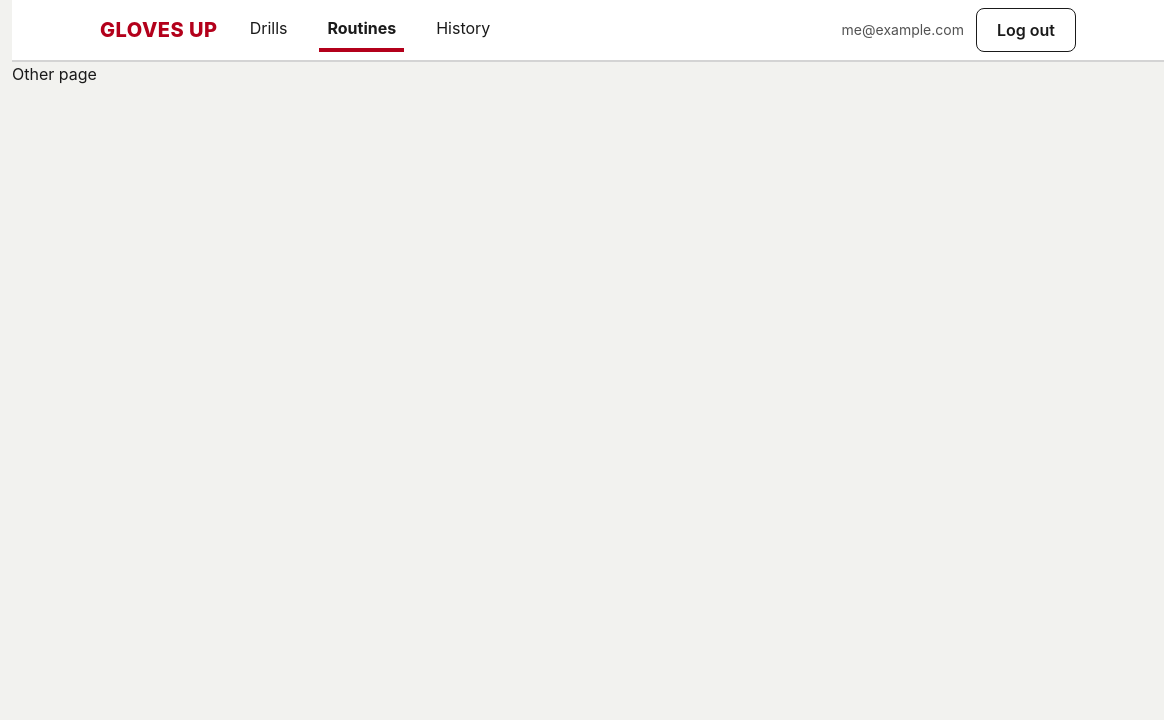
Scenario: Navbar › logs out and goes to the login page
The image size is (1164, 720).
Click the button "Log out".
click(1026, 30)  # box [976,8,1076,52]
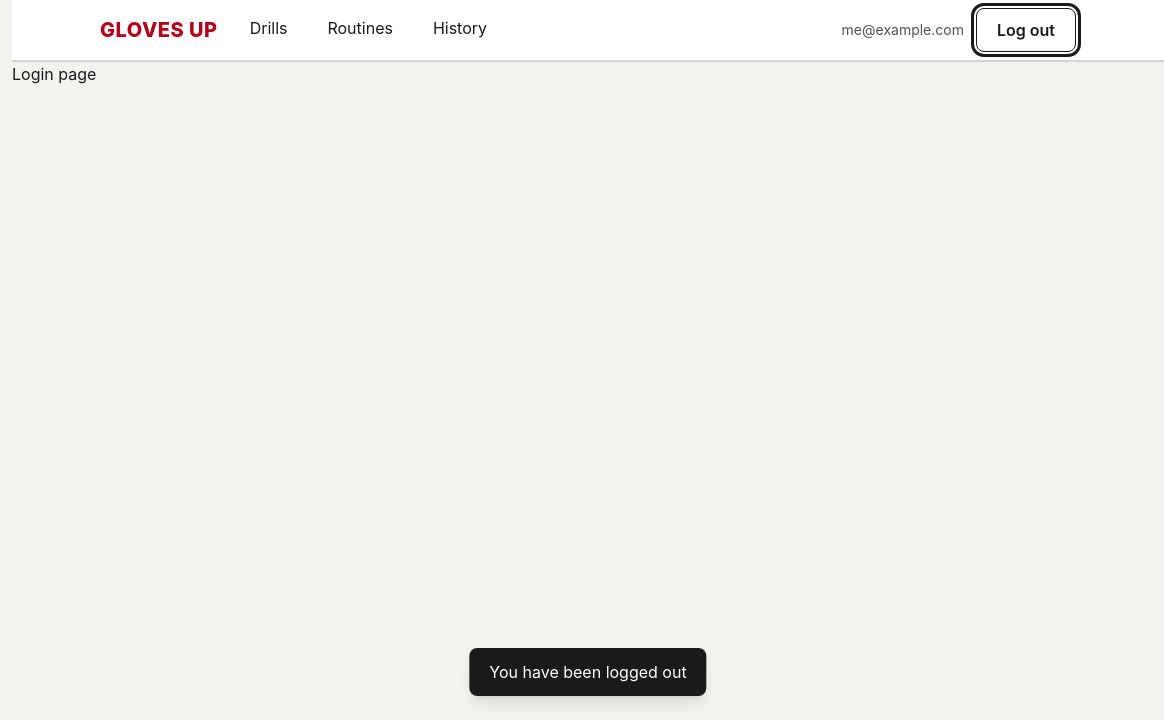
Check: the text "Login page" is shown, box [12,64,96,84]
